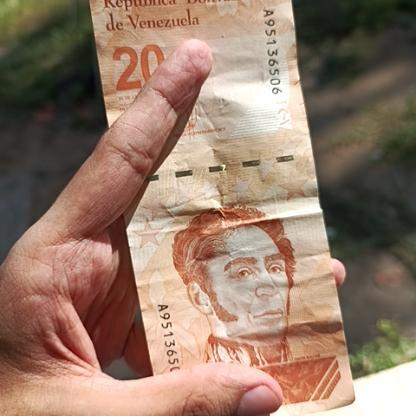twenty-front-vef: (90, 0, 356, 416)
